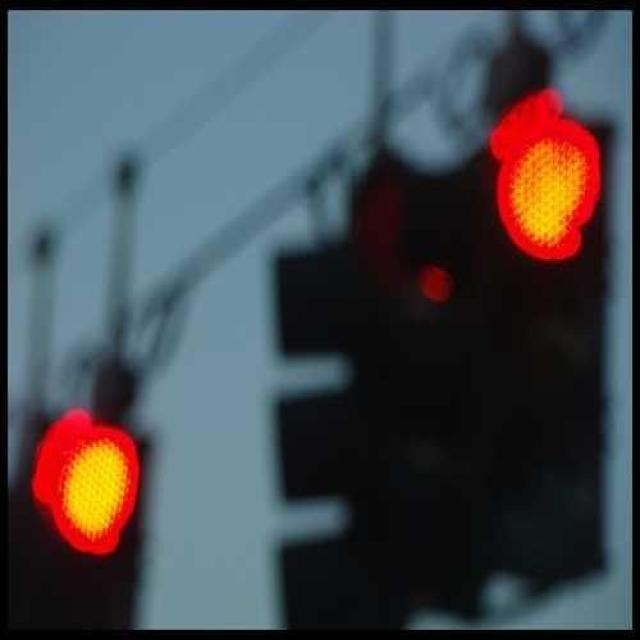Traffic Light -Red-: (472, 88, 624, 591), (18, 394, 162, 640)
